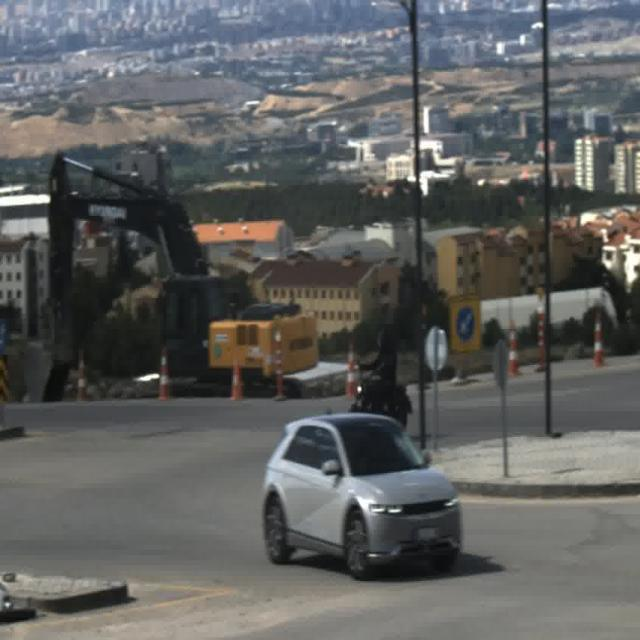Car: (260, 413, 459, 578)
Motorcycle: (348, 330, 411, 412)
